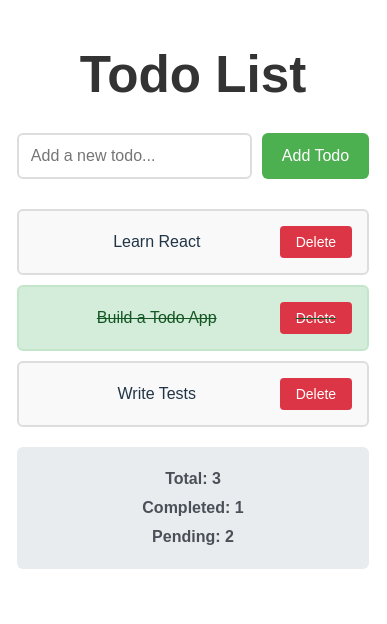
Test: TodoList Component › adds a new todo
Type "New Test Todo" into the field with test id "todo-input" at (134,156), box left=17, top=133, right=252, bottom=179
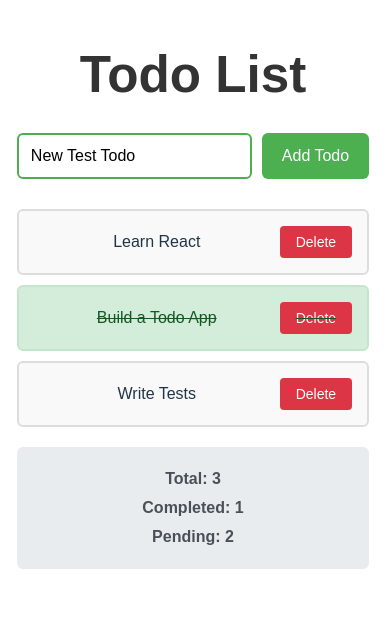
Click the button with test id "add-button" at (315,156), box left=262, top=133, right=369, bottom=179
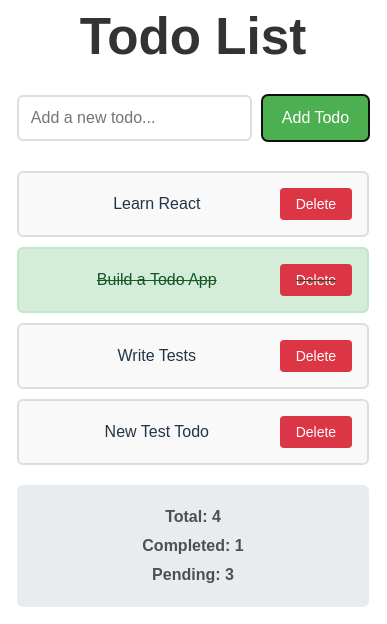
Result: the text "New Test Todo" is shown at left=105, top=423, right=209, bottom=440
Result: the field with test id "todo-input" is empty at left=17, top=95, right=252, bottom=141
